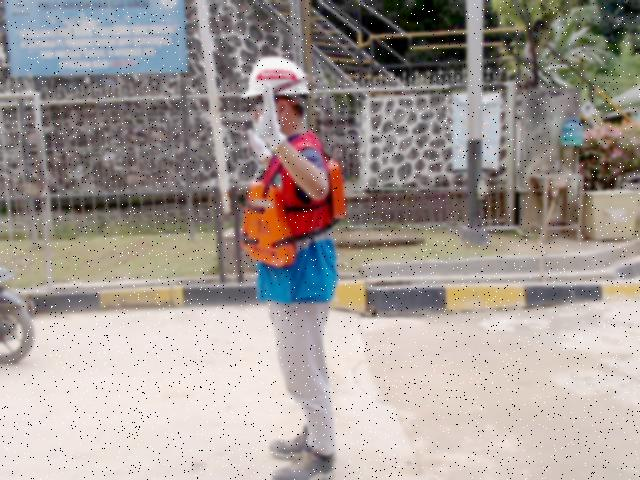gloves: (251, 82, 285, 151), (239, 117, 272, 160)
helmet: (237, 54, 314, 99)
safety-shoes: (268, 444, 340, 479), (270, 426, 312, 460)
vest: (239, 157, 347, 268)
